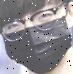with_mask: (1, 1, 73, 74)
